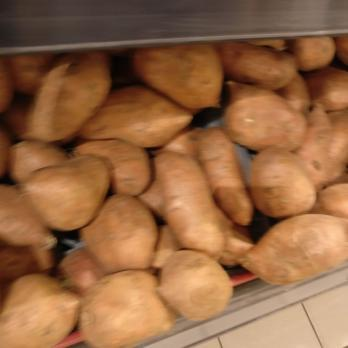Sweet potato: (0, 55, 348, 271), (0, 269, 233, 341)
